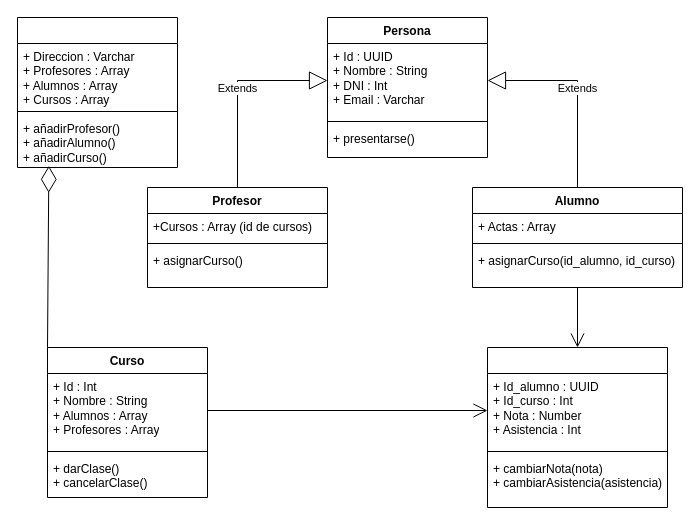
Image size: 700x528. Some labels were removed from this diagram. Each missing label, with the box of its shape:
CursoAlumno: (486, 346, 668, 508)
Institucion: (16, 16, 178, 168)
